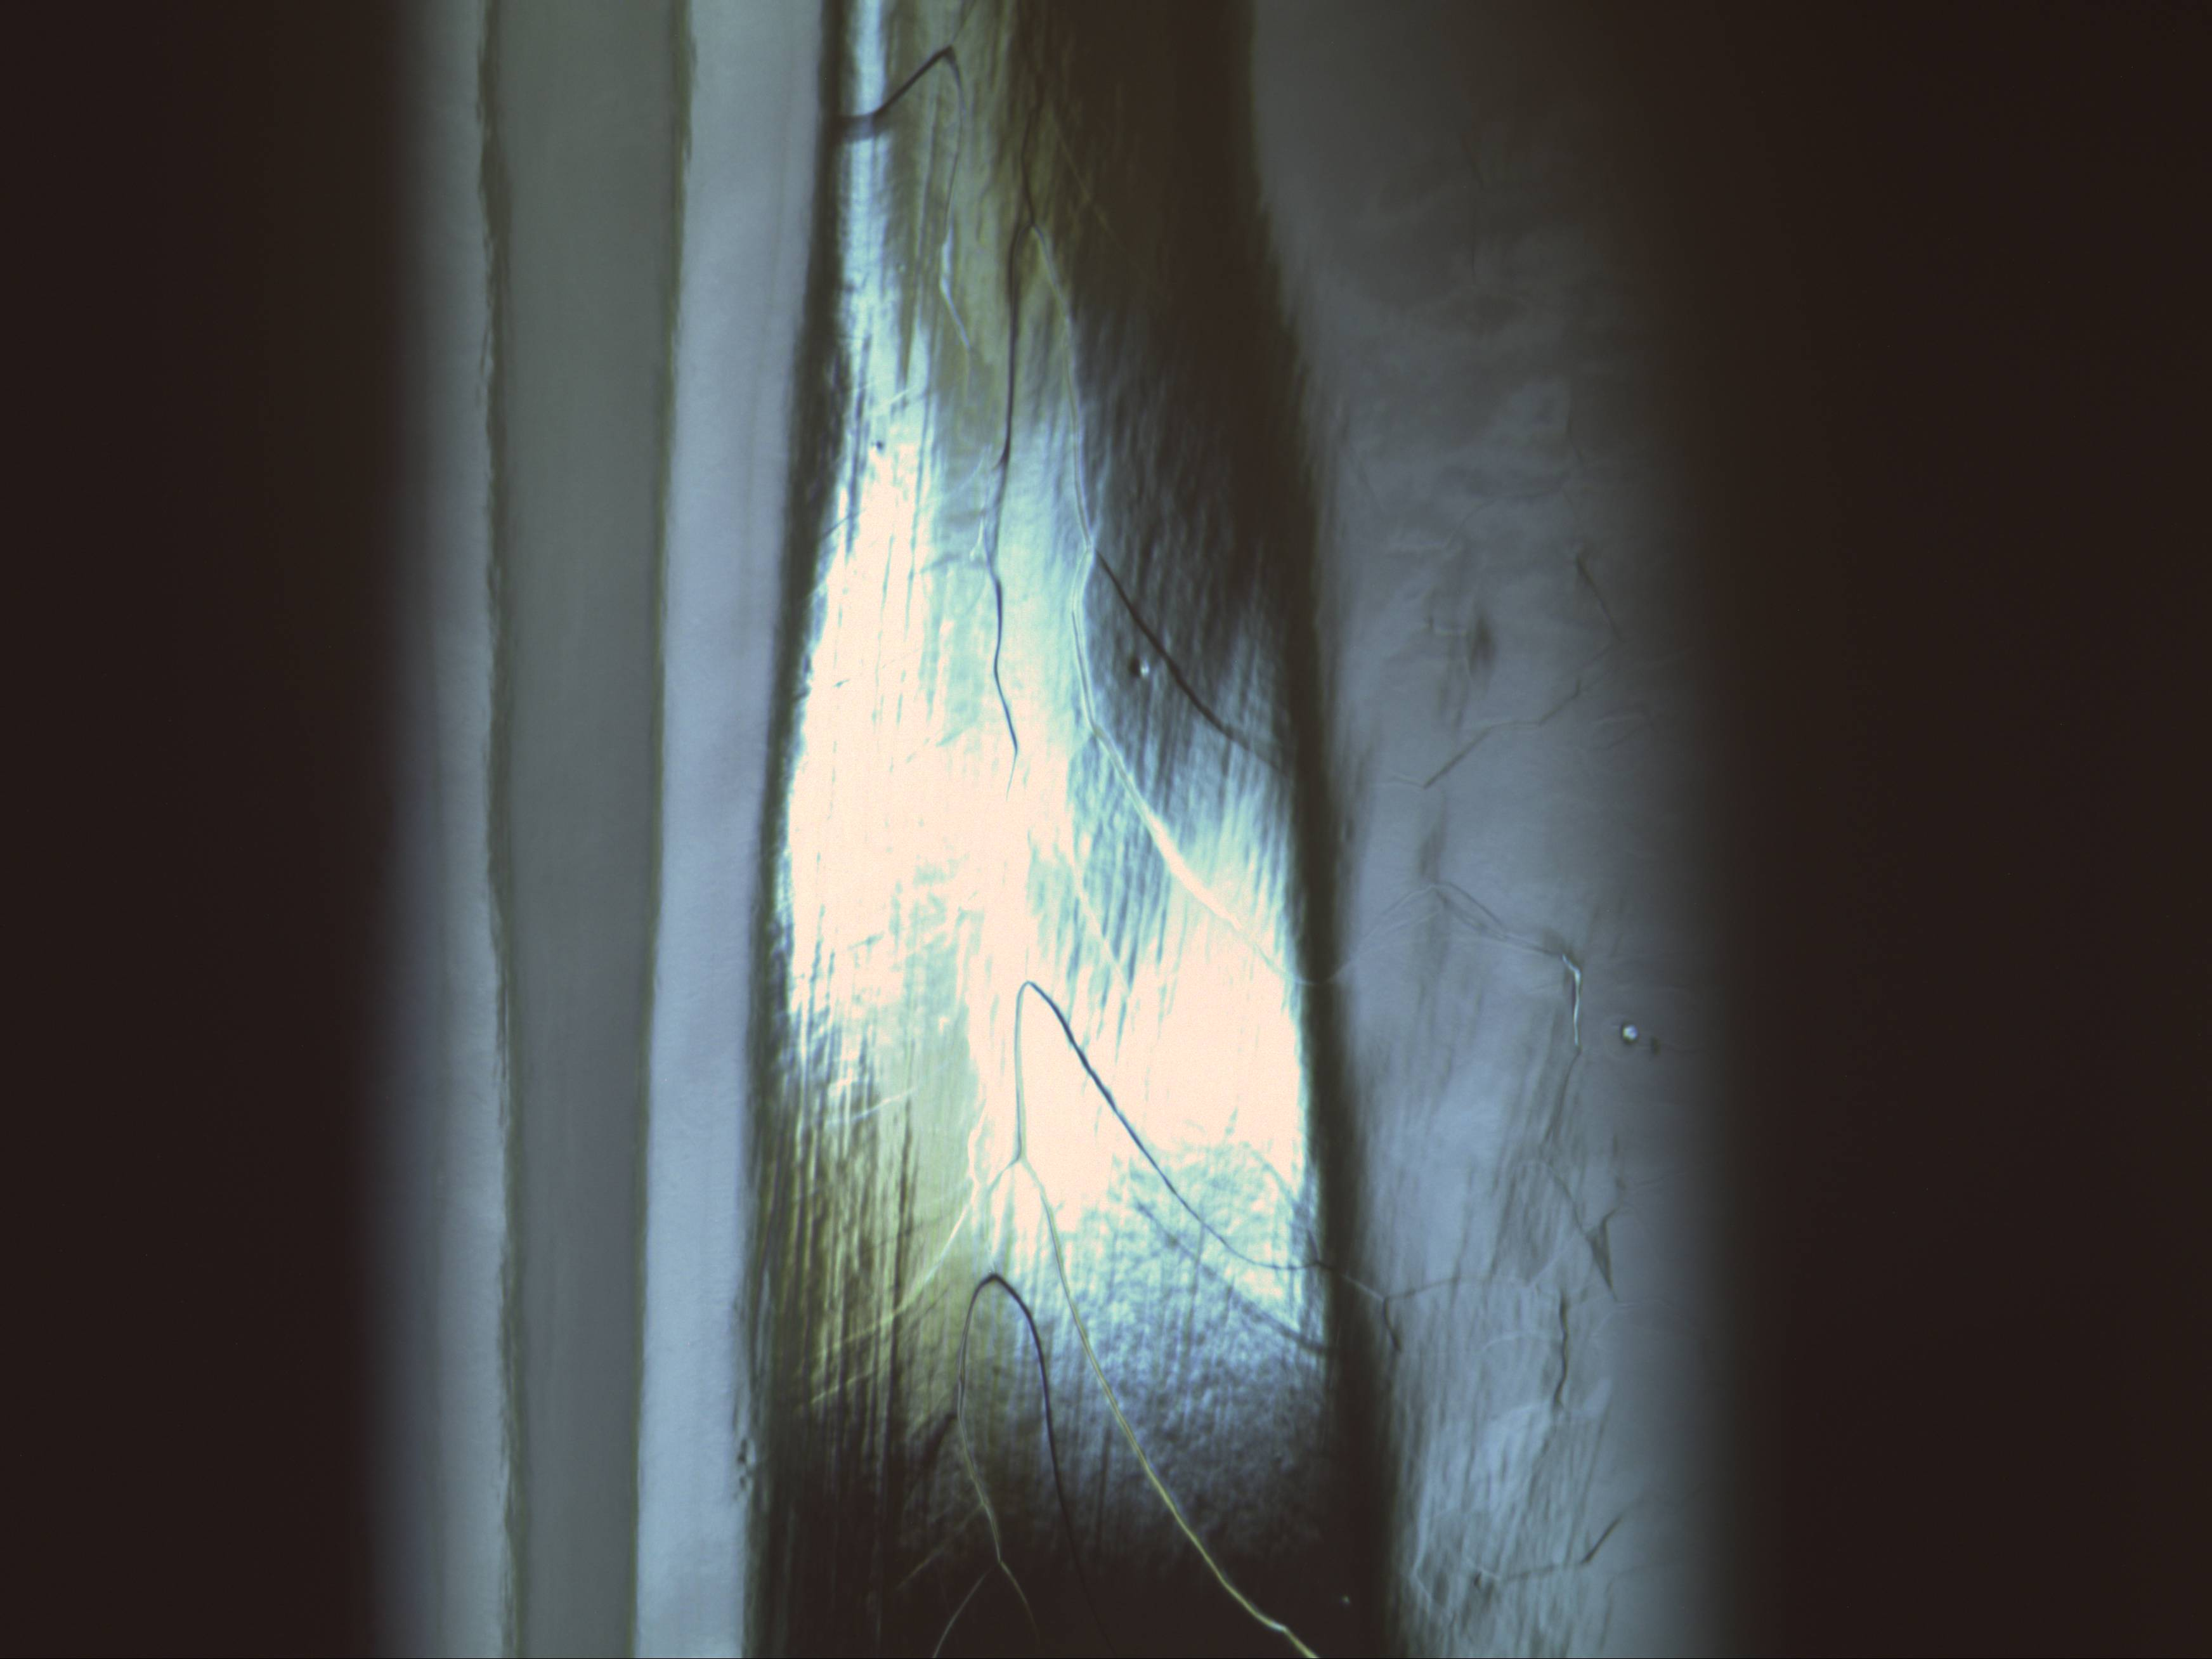defect: (1122, 653, 1157, 683)
